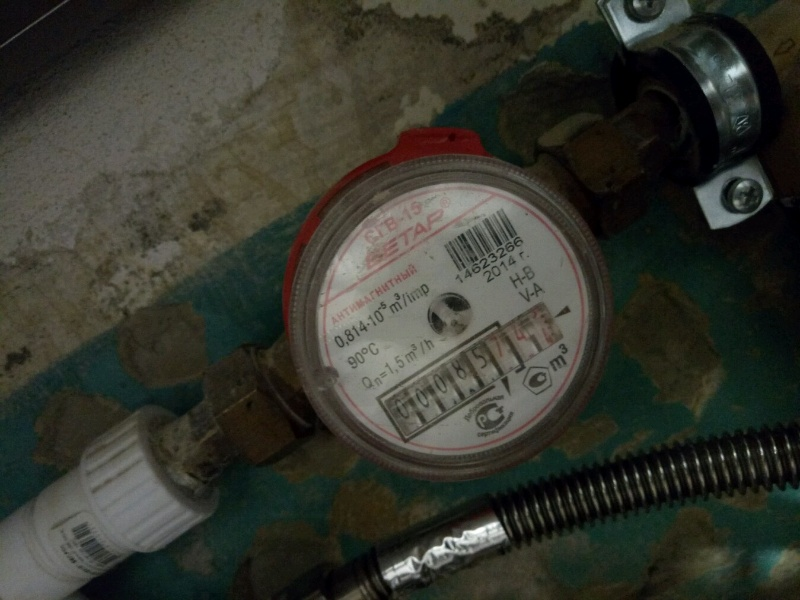dial: (379, 317, 567, 419)
